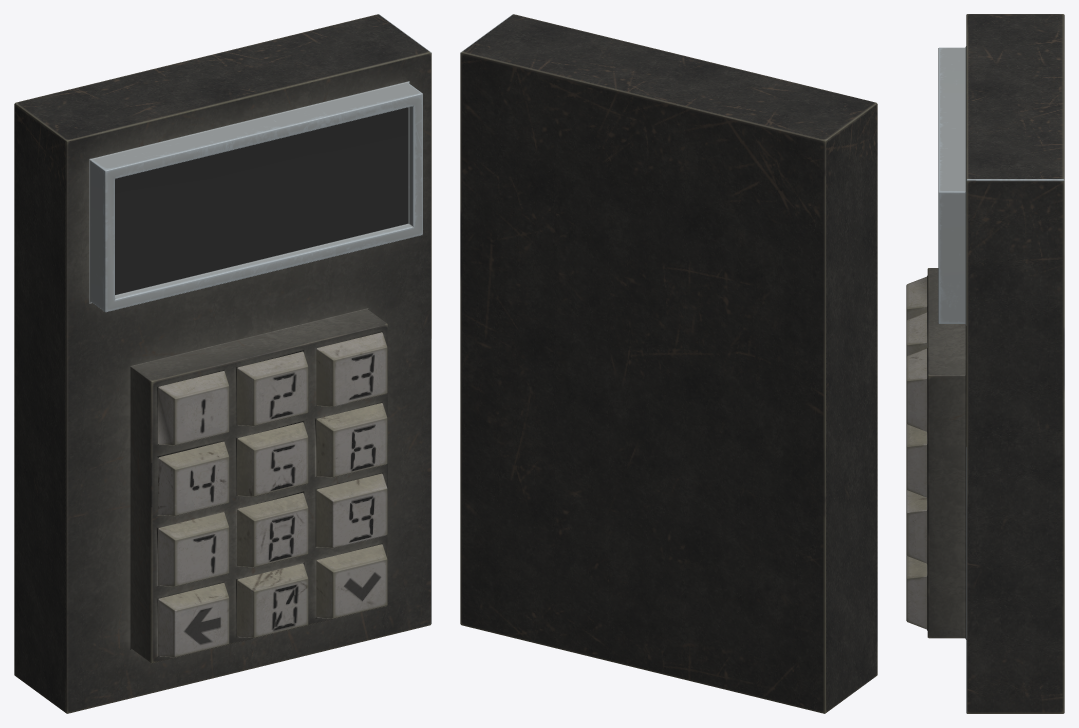
Rendered from Keypad.fbx.
The picture shows the model from 3 angles, left to right: view 1: azimuth 30°, elevation 25°; view 2: azimuth 150°, elevation 25°; view 3: azimuth 270°, elevation 25°; orthographic projection. The views are drawn at different scales.
Visible parts, largest first — view 1: BaseKeypad, Button_0, Button_6, Button_5, Button_9, Button_Enter, Button_2, Button_3, Button_4, Button_7, Button_Back, Button_1 (+1 smaller); view 2: BaseKeypad; view 3: BaseKeypad, Button_3, Button_6, Button_9, Button_Enter, Button_1, Button_2.
Boxes of the visible parts, bbox=[...] form: BaseKeypad: bbox=[14, 14, 431, 713]; Button_0: bbox=[237, 563, 308, 638]; Button_6: bbox=[316, 403, 387, 477]; Button_5: bbox=[237, 422, 308, 496]; Button_9: bbox=[316, 473, 387, 548]; Button_Enter: bbox=[316, 544, 387, 618]; Button_2: bbox=[237, 351, 308, 426]; Button_3: bbox=[316, 332, 387, 406]; Button_4: bbox=[158, 441, 229, 516]; Button_7: bbox=[158, 512, 229, 586]; Button_Back: bbox=[158, 583, 229, 657]; Button_1: bbox=[158, 371, 229, 445]; BaseKeypad: bbox=[460, 14, 877, 713]; BaseKeypad: bbox=[927, 14, 1064, 713]; Button_3: bbox=[906, 348, 926, 431]; Button_6: bbox=[906, 423, 926, 497]; Button_9: bbox=[906, 489, 926, 563]; Button_Enter: bbox=[906, 555, 926, 629]; Button_1: bbox=[906, 276, 926, 320]; Button_2: bbox=[906, 312, 926, 356].
Size of the model in its own units: 40 by 60 by 16.08.
Materials: 1 (1 with a texture image).
